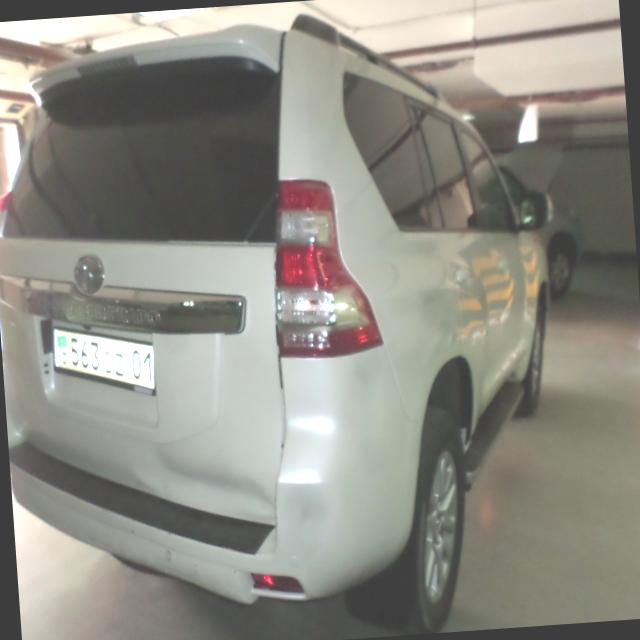Cabossage: (133, 432, 278, 535), (338, 348, 398, 464), (279, 478, 335, 578)
Rayure: (163, 541, 177, 562)
